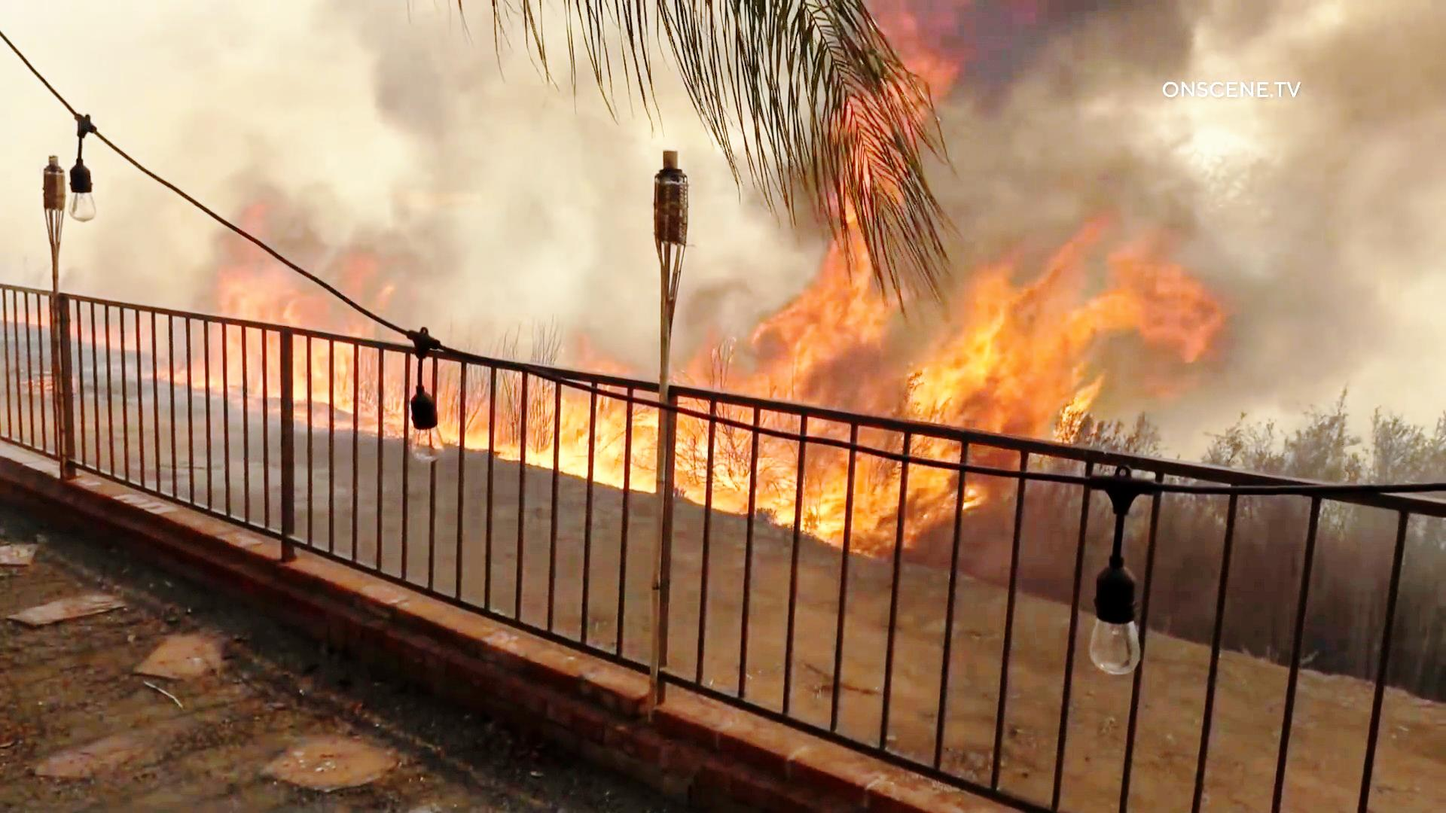fire: (868, 254, 1211, 457), (177, 189, 403, 422), (677, 262, 874, 493), (444, 354, 663, 501)
smoke: (970, 100, 1442, 231), (1243, 249, 1404, 392), (336, 2, 481, 124), (998, 10, 1171, 82)
